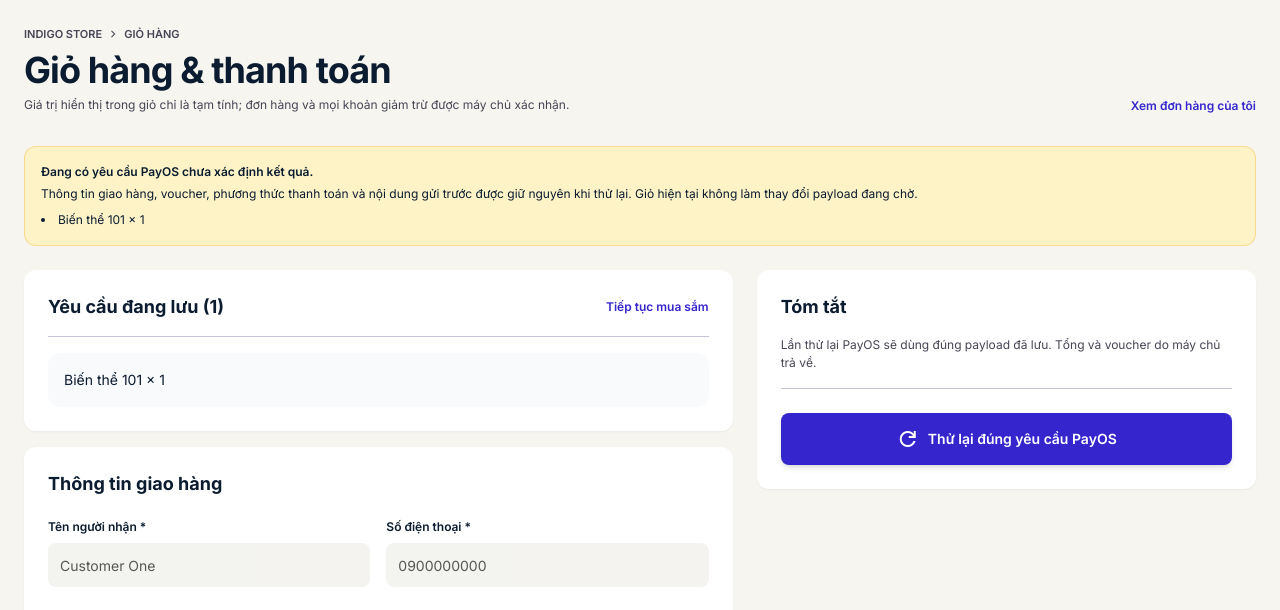
Test: PayOS attempt session protection › keeps the unresolved idempotency key when a retry is blocked by local session validation
Click the button "Thử lại đúng yêu cầu PayOS" at point(1006, 439), box [781,413,1232,465]
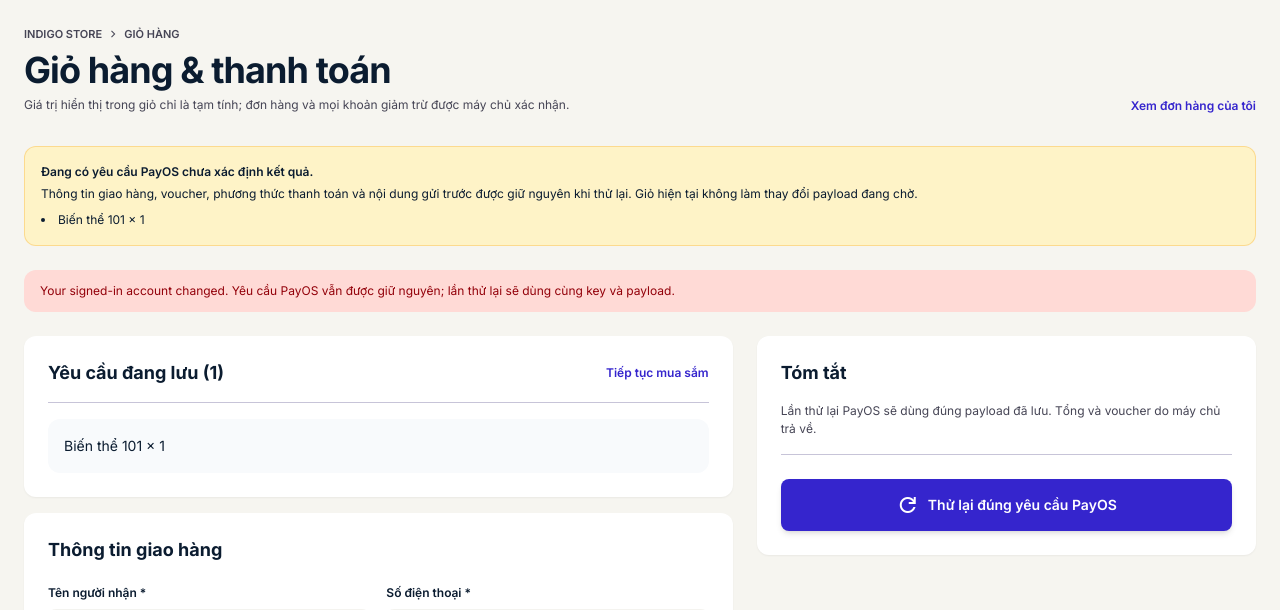
Result: the text "Your signed-in account changed" is shown at [40,283,675,298]
